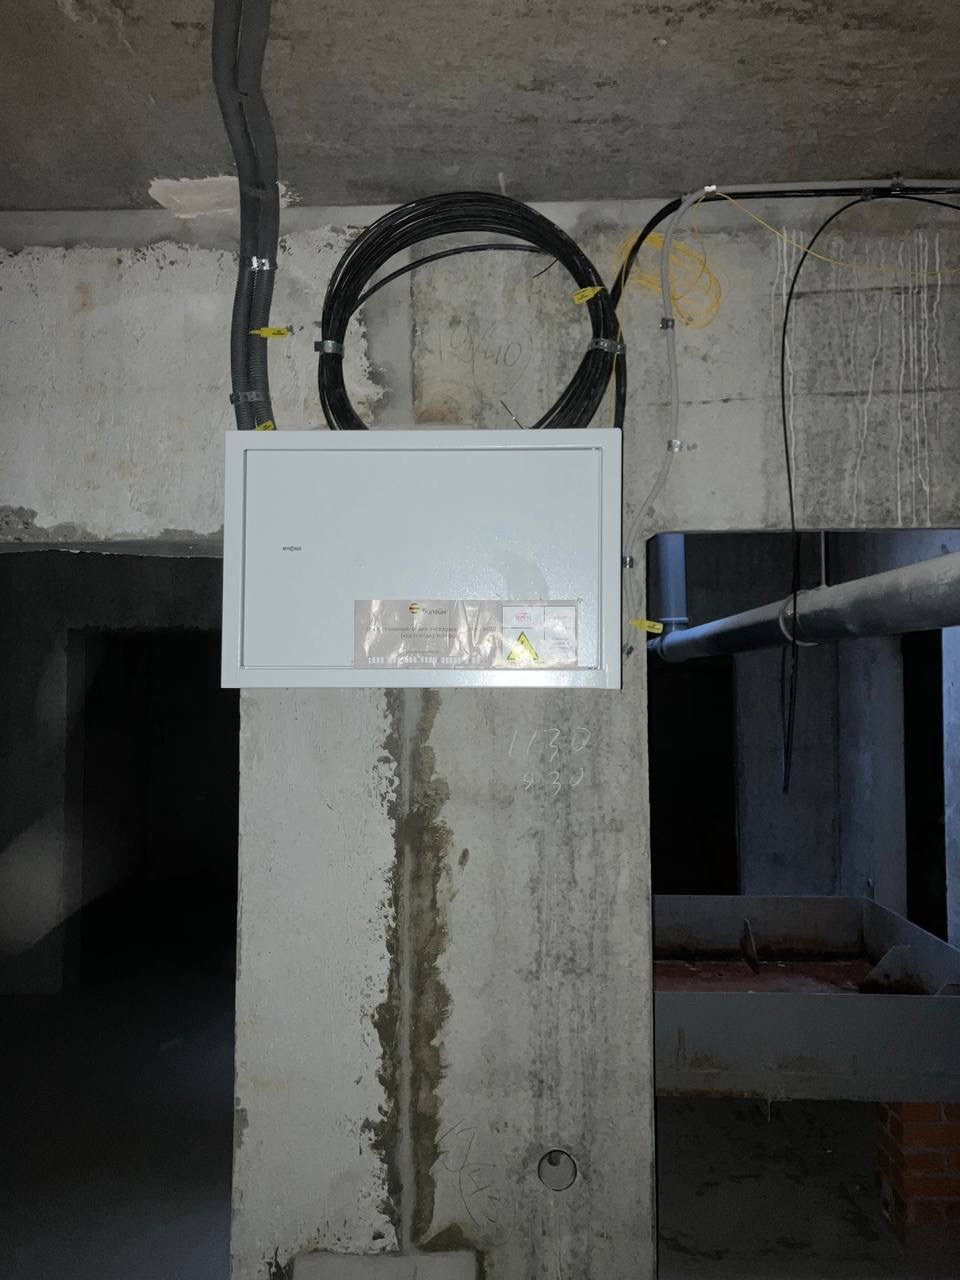shta-7m: (209, 416, 637, 705)
